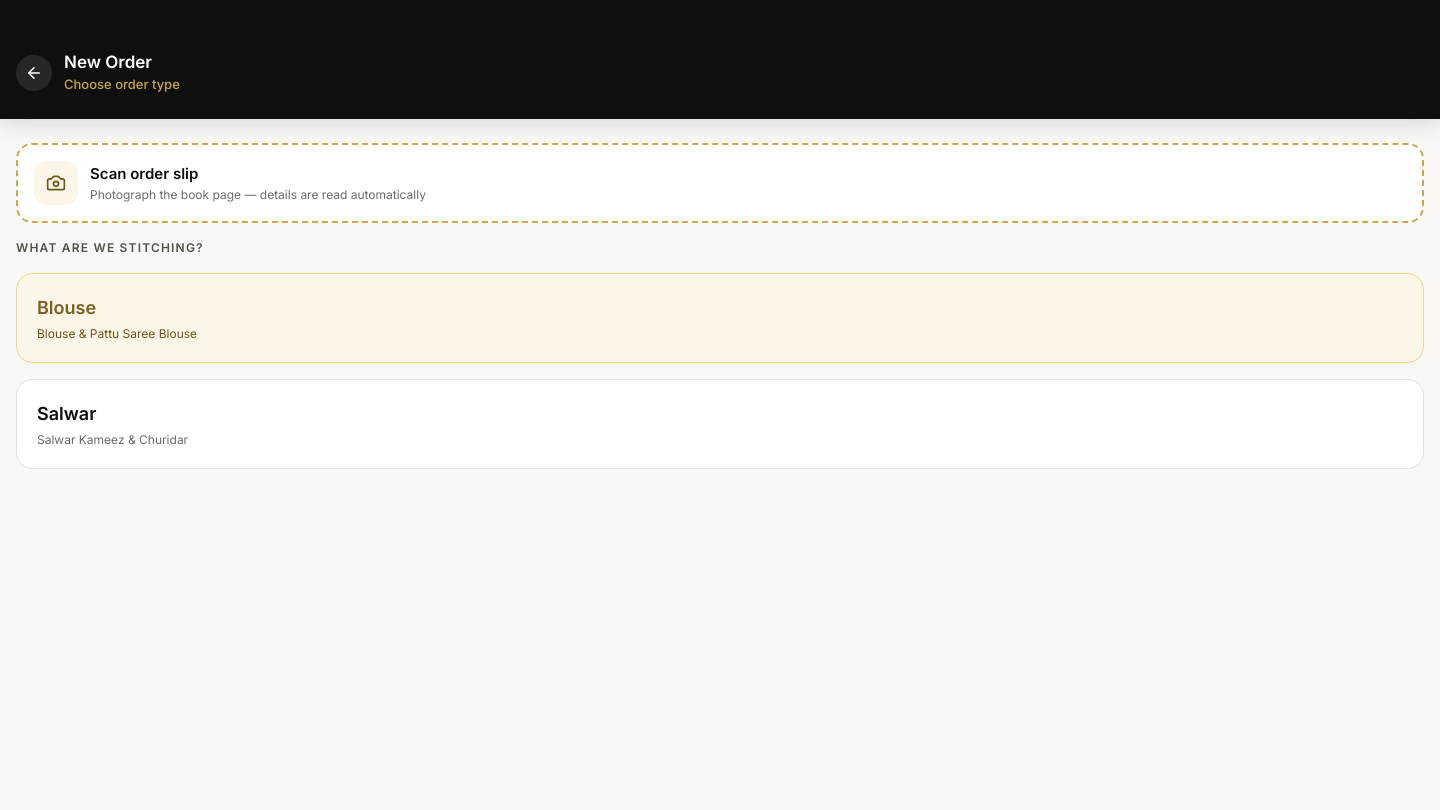
Test case: NewOrderWizard › order-type selector › lets the order type be changed from step 1 via the Change link
Click the text "Blouse" at (67, 307), box [37,297,96,318]
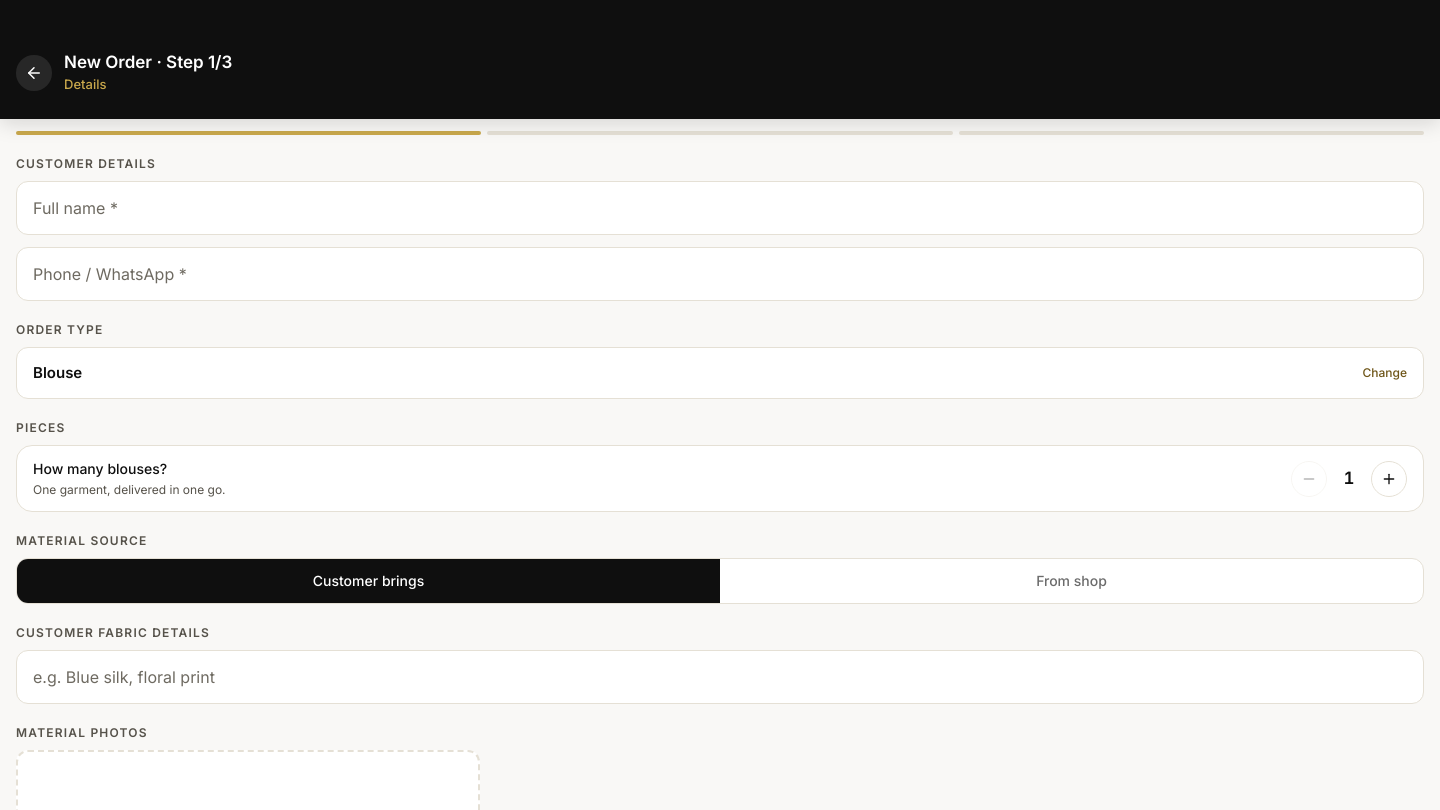
Click the button "Change" at (1385, 373), box [1362,365,1407,381]
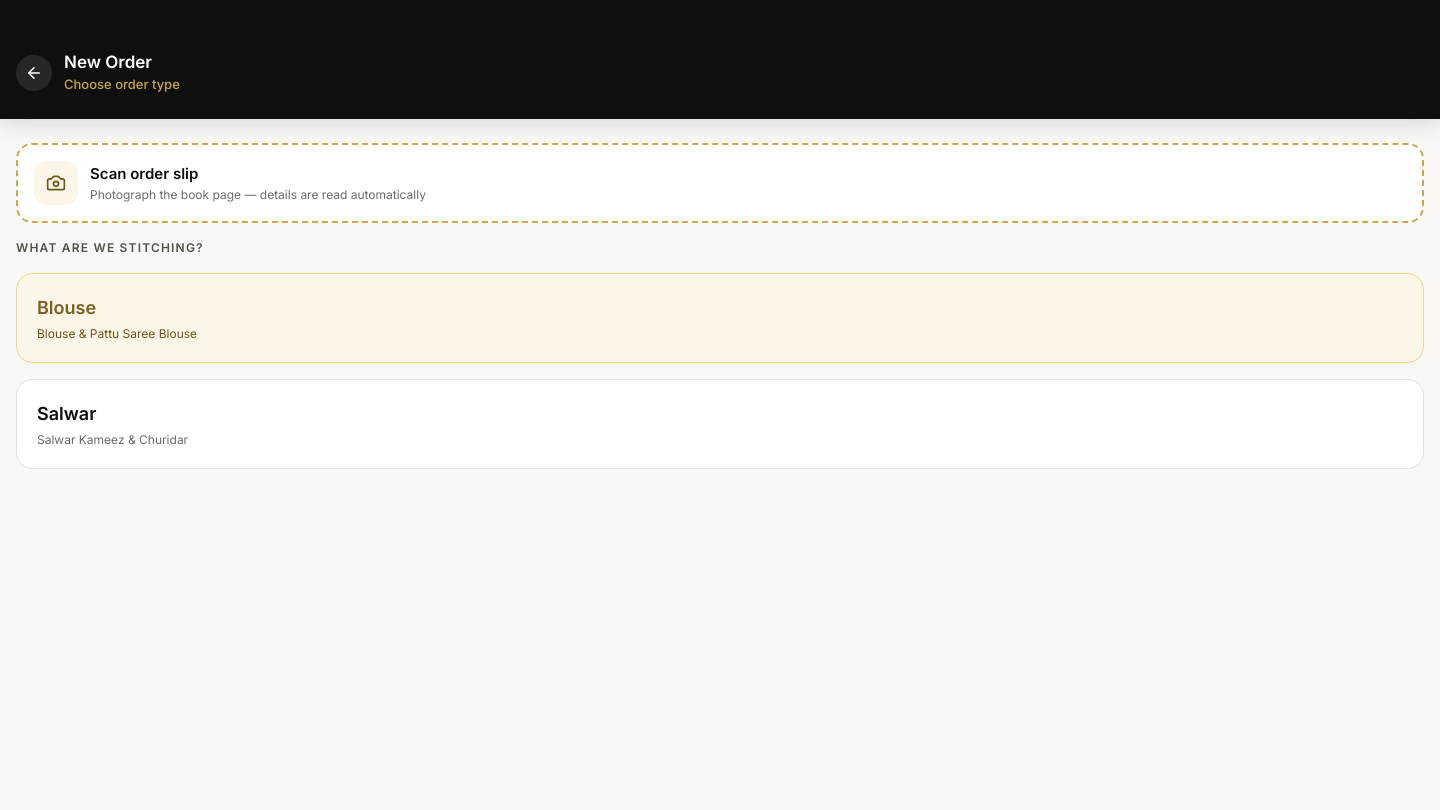
Now the text "What are we stitching?" is shown, box [16,240,204,255]
